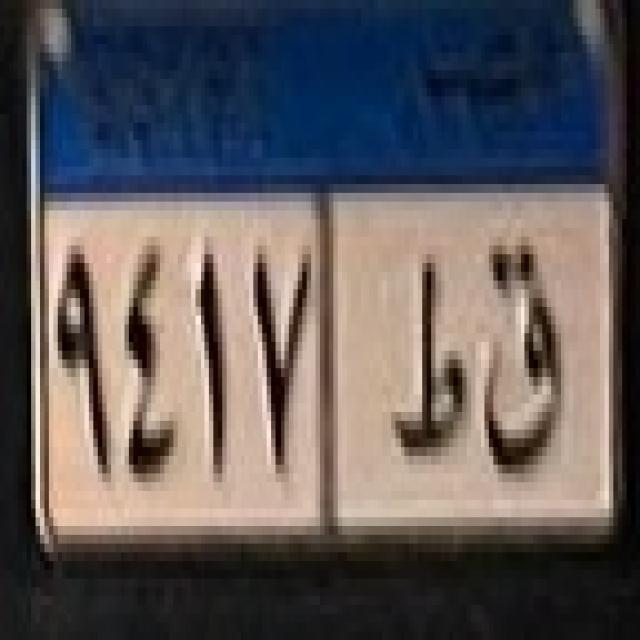1: (191, 242, 239, 494)
4: (118, 241, 178, 498)
7: (245, 249, 313, 473)
9: (53, 251, 115, 495)
Taa: (389, 249, 482, 469), (483, 246, 563, 473)
